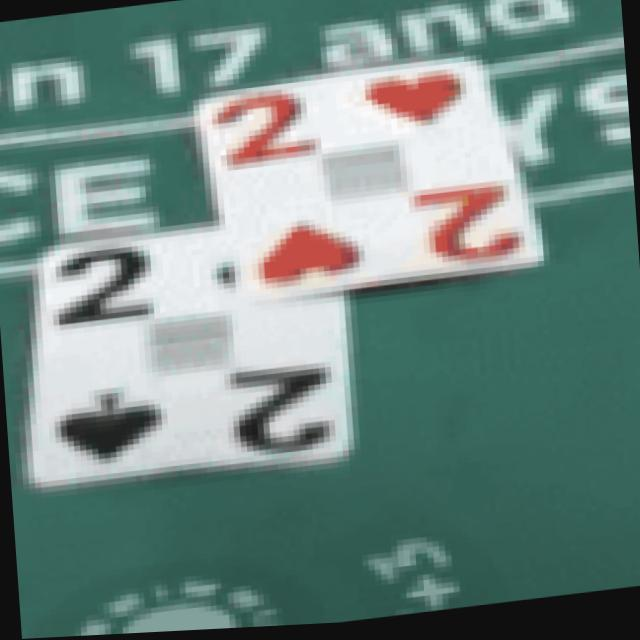Card-2: (197, 61, 543, 299), (29, 236, 347, 485)
